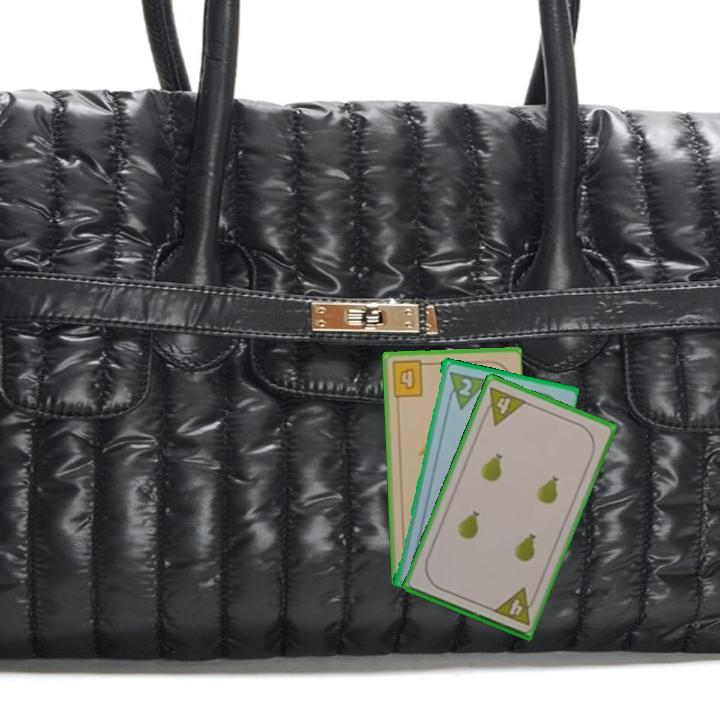2p: (455, 374, 475, 399)
4b: (388, 357, 431, 400)
4p: (478, 383, 529, 428), (489, 584, 540, 628)
